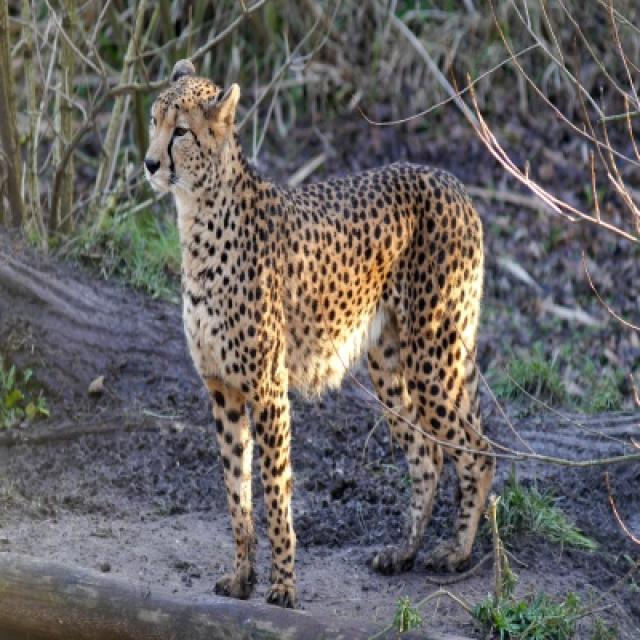Cheetah: (144, 67, 496, 611)
